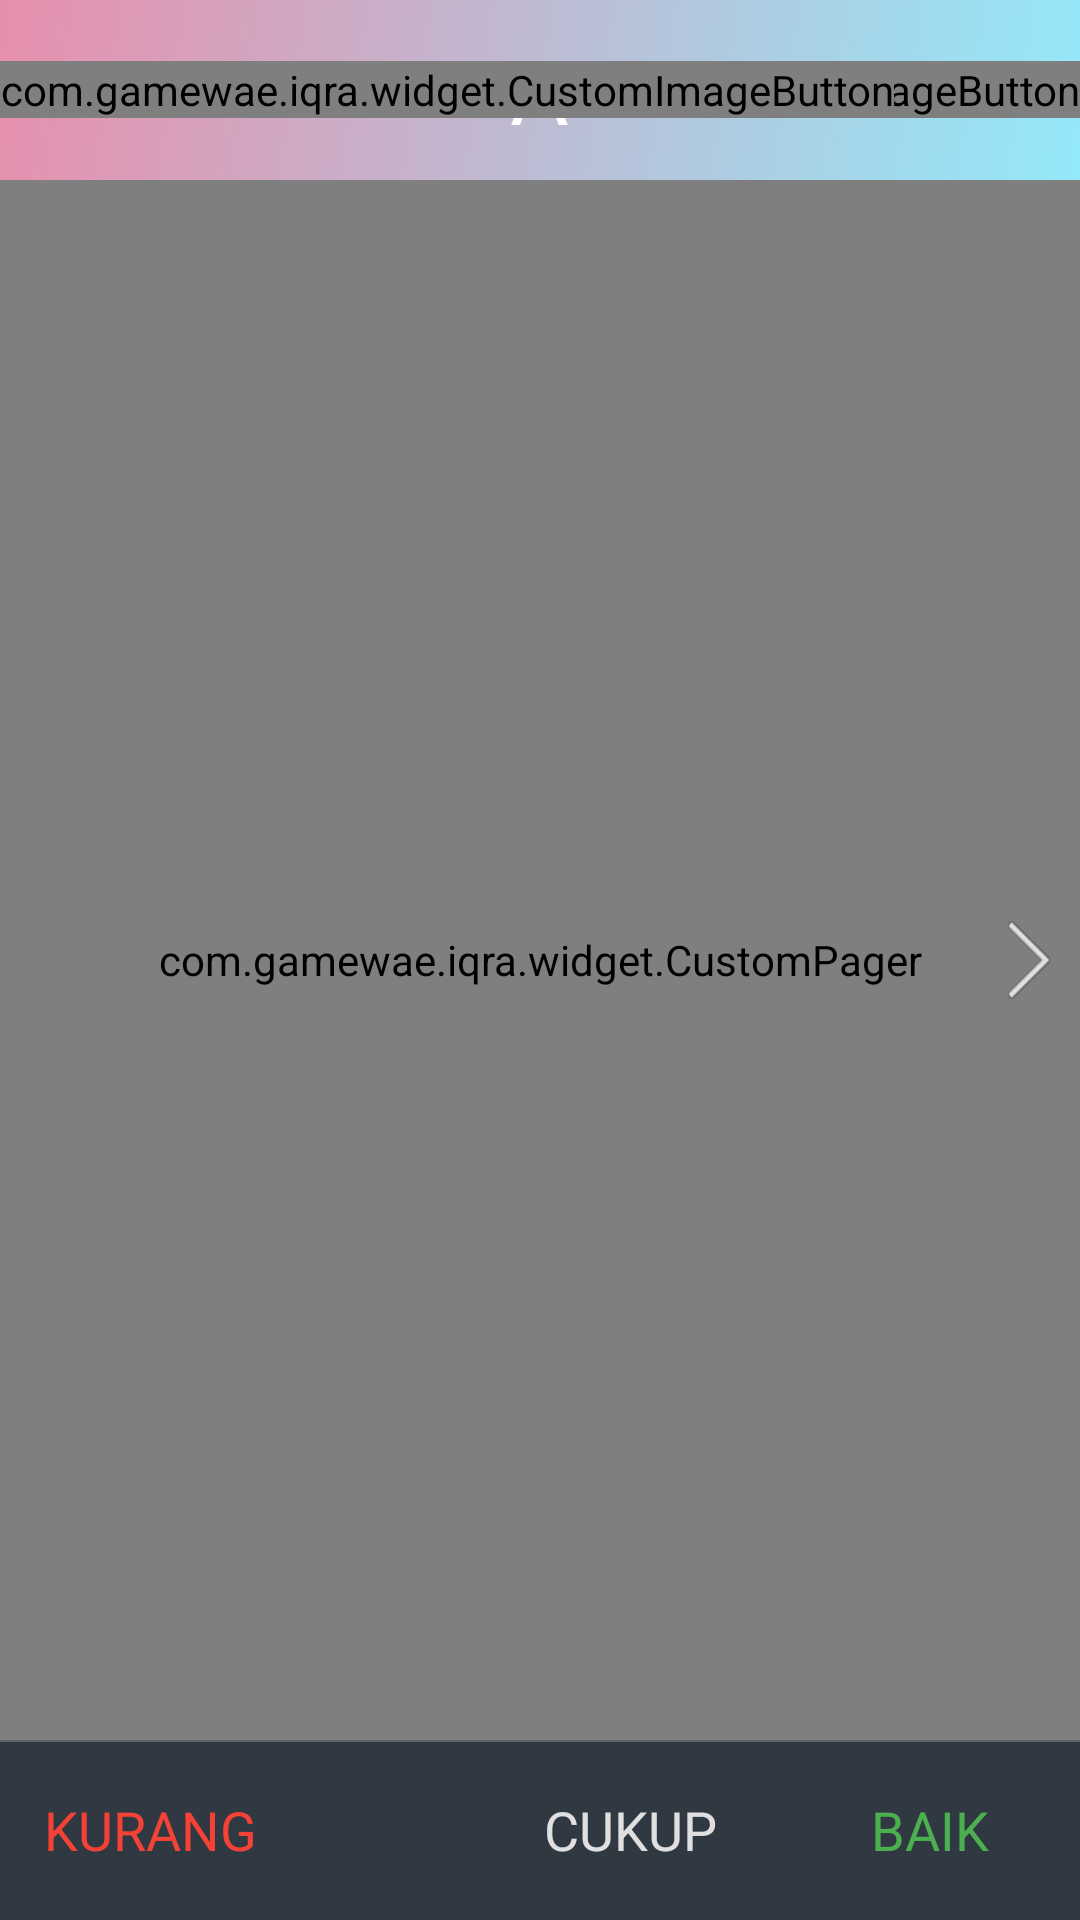

Named icons in this screenshot (1080x1920) and their centers, point (x, y):
arrow next: point (1028, 960)
